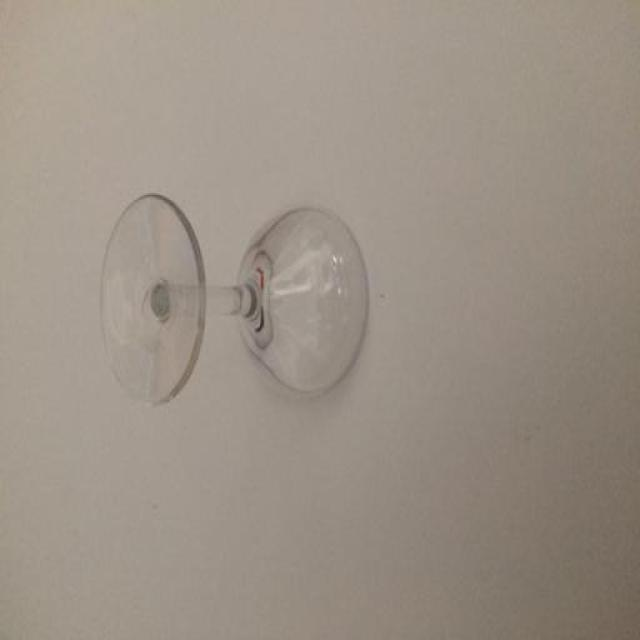Glass: (98, 191, 491, 487)
